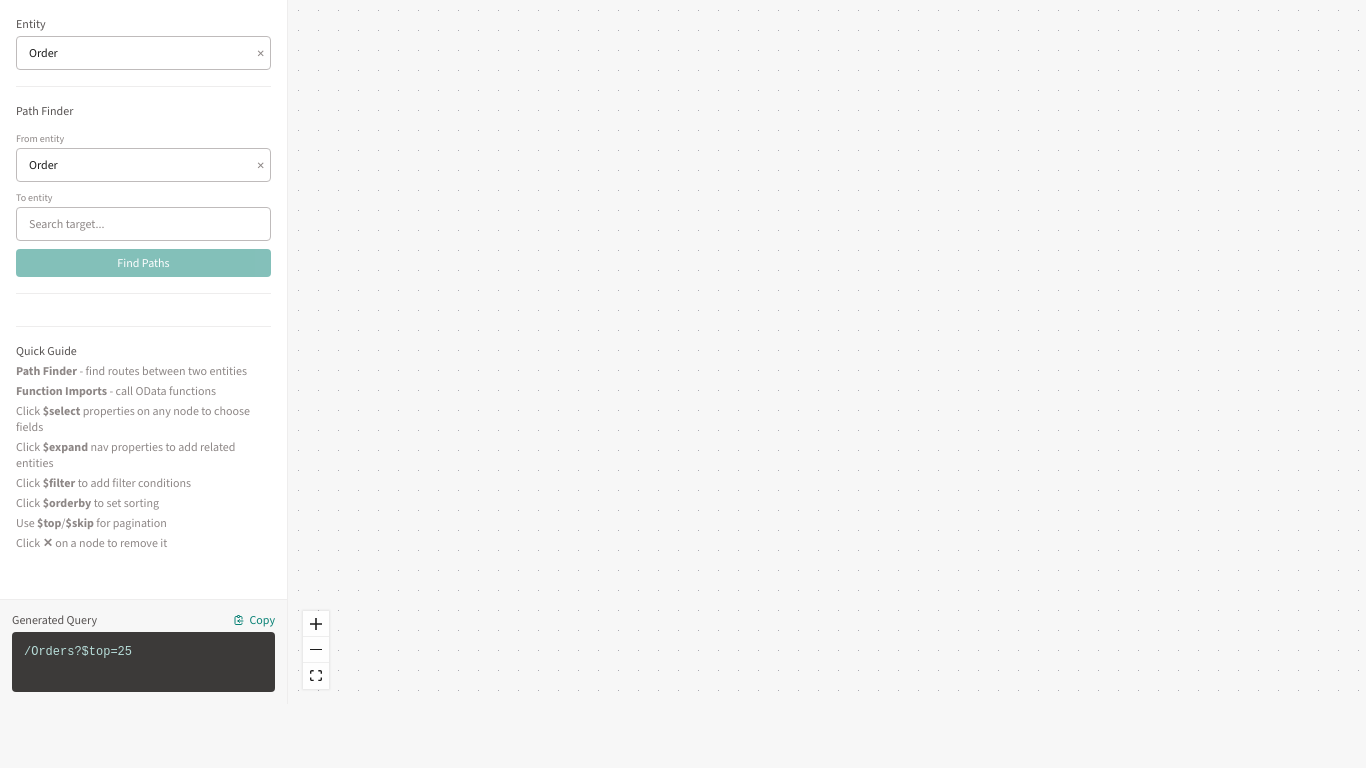
Test: QueryBuilder entity selector wiring › explains an entity that has no entity set instead of saying "select an entity"
Focus the 1st dropdown at (144, 53), box x1=16 y1=36 x2=271 y2=70
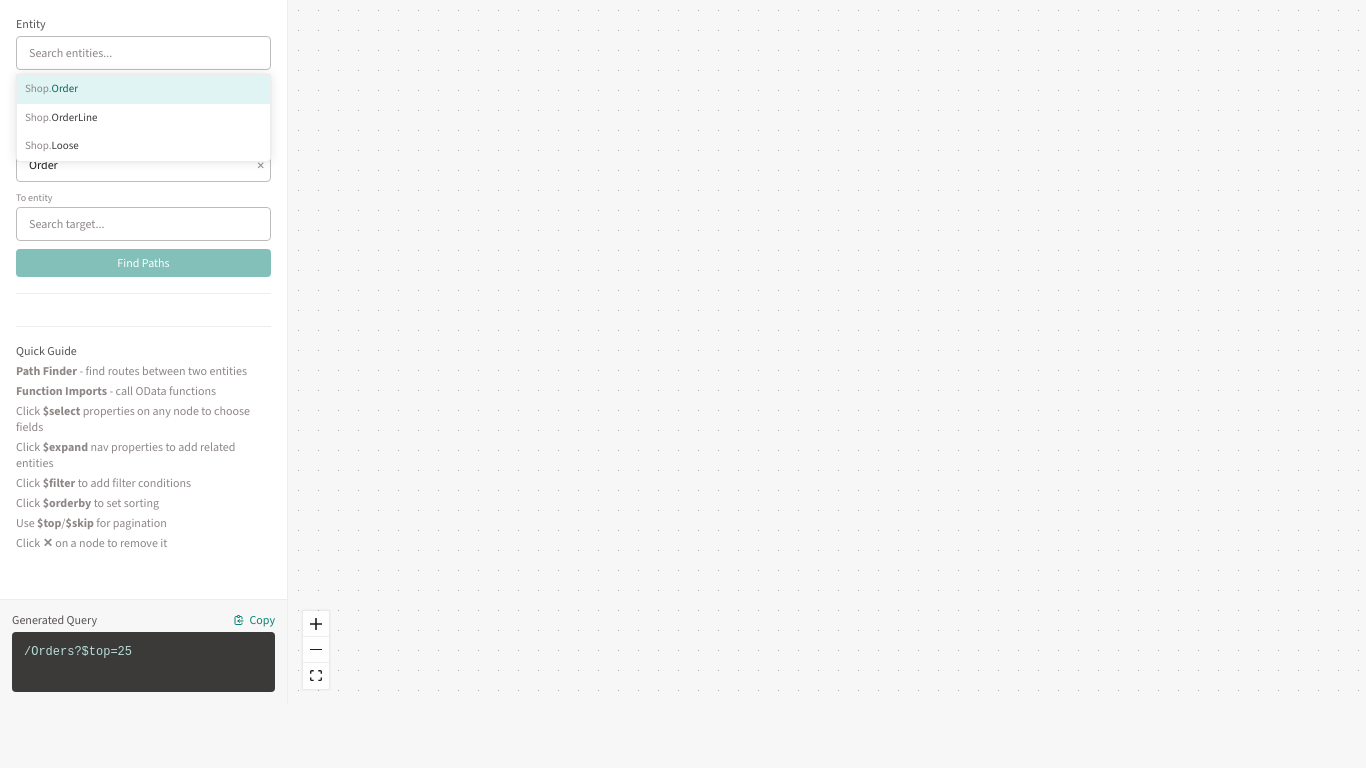
Press the mouse on the option "Shop.Loose" at (144, 146), box x1=17 y1=132 x2=270 y2=160
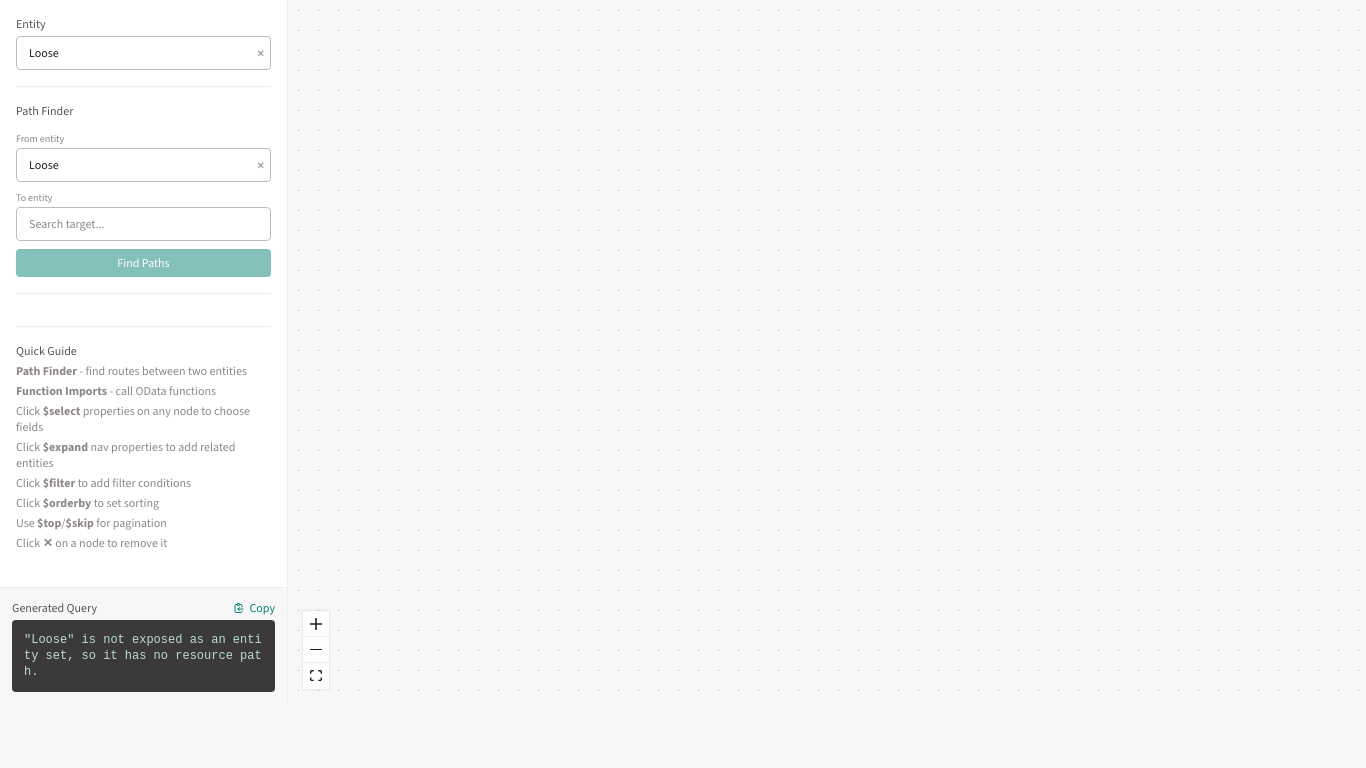
Now the text "not exposed as an entity set" is shown, box x1=24 y1=633 x2=262 y2=679
